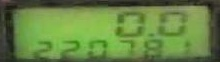-: (143, 31, 155, 37)
0: (156, 10, 188, 35), (112, 11, 143, 36), (85, 39, 106, 58)
1: (179, 36, 190, 57)
2: (58, 39, 78, 58), (31, 40, 52, 57)
7: (115, 39, 135, 58)
8: (139, 38, 162, 58)
